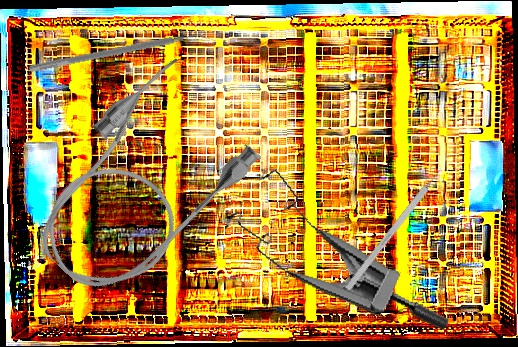Cannula: (6, 48, 272, 317)
Hook Surgical: (344, 162, 448, 291)
Spatula Surgical: (28, 27, 212, 81)
Speculum: (213, 159, 474, 335)
